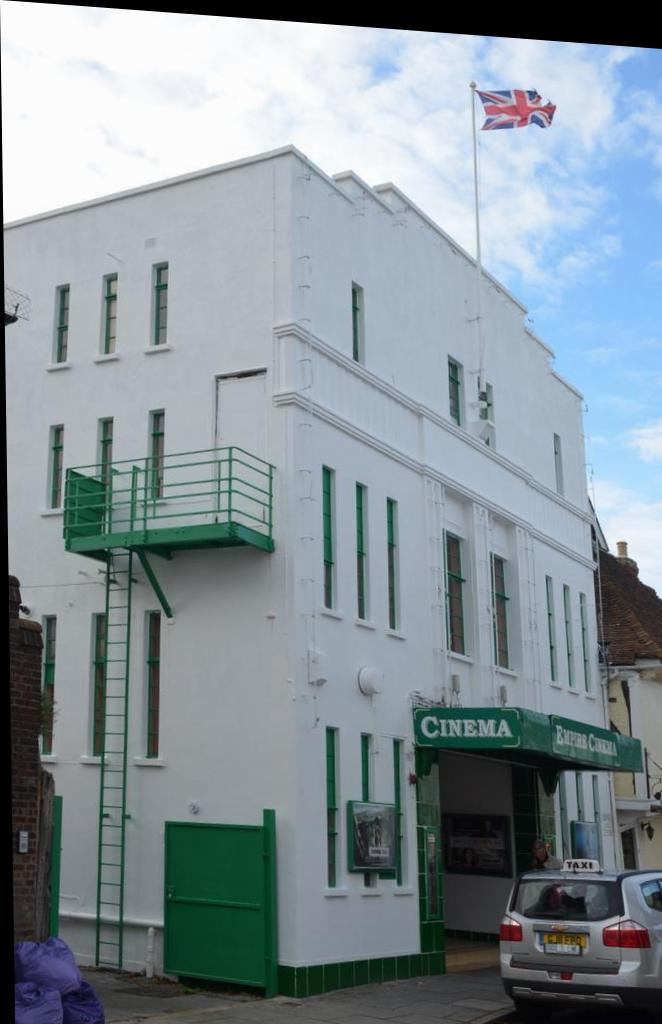License_Plate: (537, 929, 588, 958)
